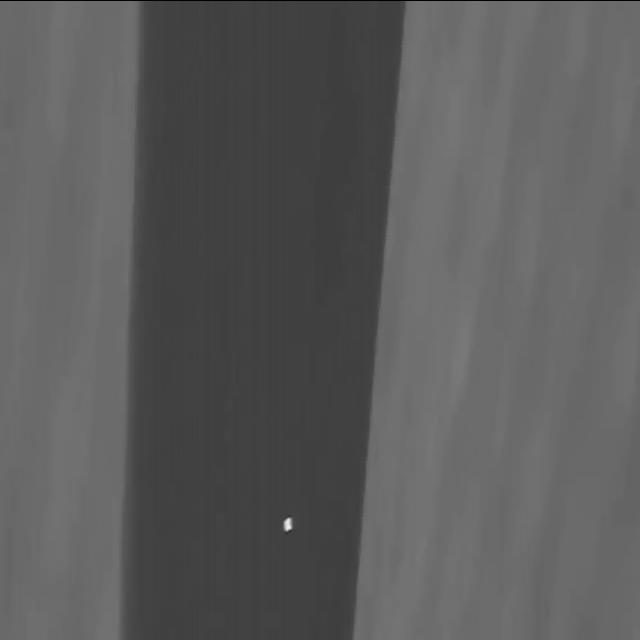baseball: (282, 516, 294, 533)
